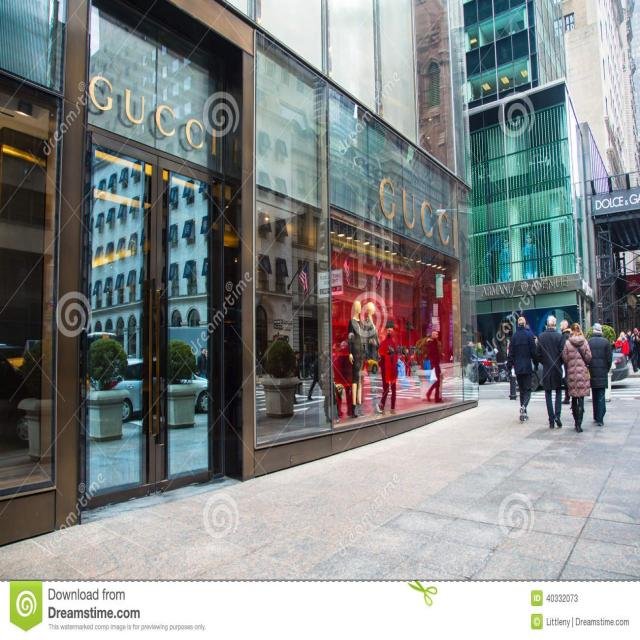body: (116, 304, 480, 438), (534, 313, 568, 430), (505, 314, 541, 423), (562, 322, 593, 432), (587, 321, 613, 427), (494, 230, 543, 286), (487, 314, 522, 392), (558, 319, 572, 405), (625, 328, 639, 373), (614, 330, 630, 359), (630, 327, 640, 370), (634, 327, 640, 372)
